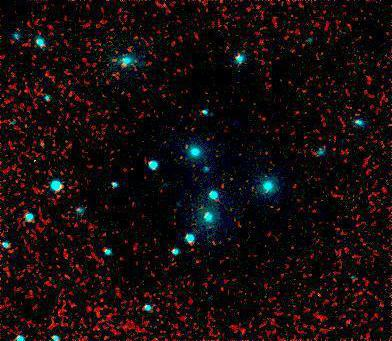star: (219, 112, 249, 142)
